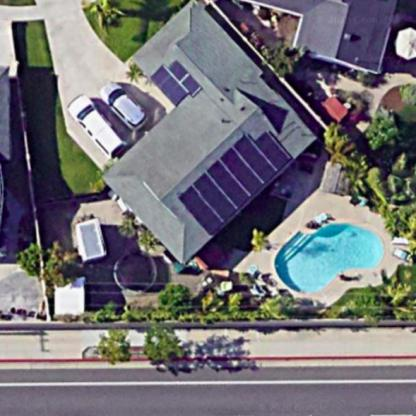car: (64, 90, 128, 164), (92, 78, 147, 128)
solar_panel: (166, 124, 297, 238), (145, 57, 204, 111)
swimming_pool: (264, 214, 386, 298)
